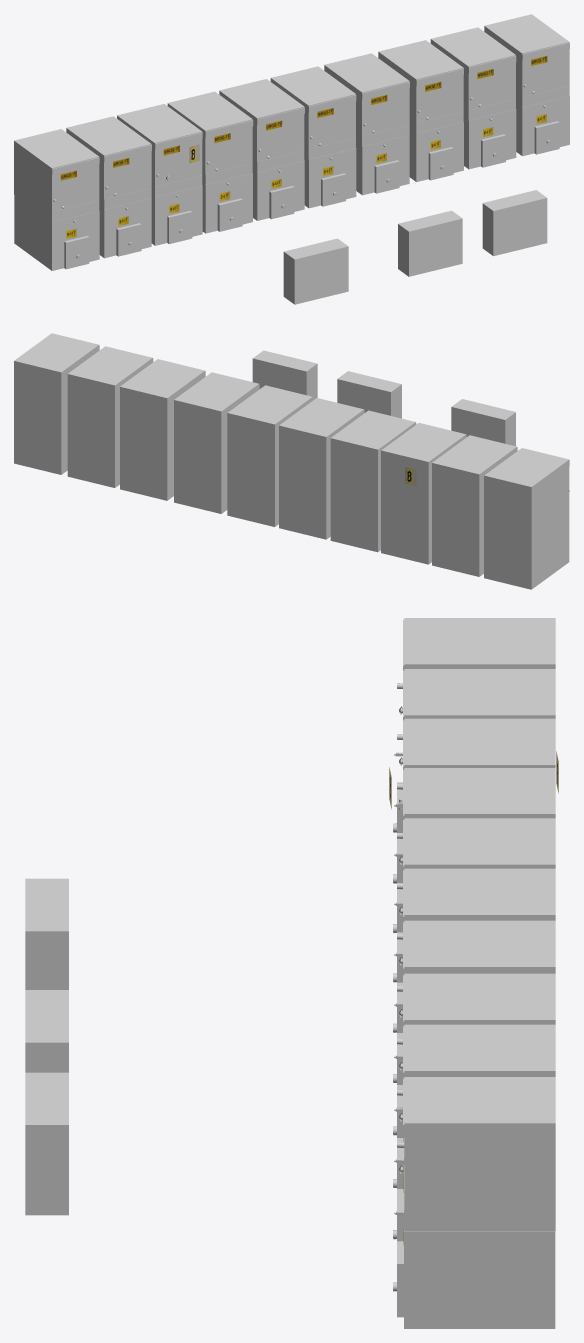
Rendered from TES Proskura.FBX.
3 views of the same model, one above another, from view 1: azimuth 30°, elevation 25°; view 2: azimuth 150°, elevation 25°; view 3: azimuth 270°, elevation 25° (orthographic). The views are drawn at different scales.
Visible parts, largest first — view 1: Box044, Box077, Box093, Box069, Box085, Box036, Box053, Box061, Box045, Top BOX, Truba2, Truba3 (+31 smaller); view 2: Box044, Box077, Box093, Box069, Box085, Box036, Box053, Box061, Box045, Top BOX, Box0010_005, Box0010_009 (+11 smaller); view 3: Box093, Box0010_012, Box069, Box061, Box085, Box077, Box053, Box044, Box045, Top BOX, Box036, Truba3 (+2 smaller).
Boxes of the visible parts, x1=… form: Box044: x1=14, y1=129, x2=99, y2=222; Box077: x1=378, y1=40, x2=463, y2=133; Box093: x1=484, y1=14, x2=569, y2=107; Box069: x1=324, y1=53, x2=409, y2=146; Box085: x1=430, y1=27, x2=515, y2=120; Box036: x1=66, y1=116, x2=151, y2=209; Box053: x1=219, y1=79, x2=304, y2=172; Box061: x1=270, y1=66, x2=355, y2=159; Box045: x1=167, y1=91, x2=252, y2=184; Top BOX: x1=117, y1=104, x2=202, y2=196; Truba2: x1=283, y1=238, x2=348, y2=304; Truba3: x1=482, y1=190, x2=547, y2=256; Box044: x1=484, y1=448, x2=569, y2=541; Box077: x1=120, y1=359, x2=205, y2=452; Box093: x1=14, y1=333, x2=99, y2=426; Box069: x1=174, y1=372, x2=259, y2=465; Box085: x1=67, y1=346, x2=152, y2=439; Box036: x1=432, y1=435, x2=517, y2=528; Box053: x1=279, y1=398, x2=364, y2=490; Box061: x1=227, y1=385, x2=312, y2=478; Box045: x1=330, y1=410, x2=415, y2=503; Top BOX: x1=381, y1=423, x2=466, y2=515; Box0010_005: x1=484, y1=514, x2=569, y2=589; Box0010_009: x1=174, y1=454, x2=227, y2=513; Box093: x1=404, y1=1077, x2=555, y2=1231; Box0010_012: x1=404, y1=1230, x2=555, y2=1328; Box069: x1=404, y1=920, x2=555, y2=973; Box061: x1=404, y1=868, x2=555, y2=920; Box085: x1=404, y1=1024, x2=555, y2=1076; Box077: x1=404, y1=973, x2=555, y2=1024; Box053: x1=404, y1=818, x2=555, y2=868; Box044: x1=404, y1=618, x2=555, y2=668; Box045: x1=404, y1=768, x2=555, y2=818; Top BOX: x1=404, y1=718, x2=555, y2=767; Box036: x1=404, y1=669, x2=555, y2=718; Truba3: x1=25, y1=1072, x2=68, y2=1215.
Bounding box in the file's own units: 8.91 × 1.7 × 3.97.
3 materials, 3 textured.
